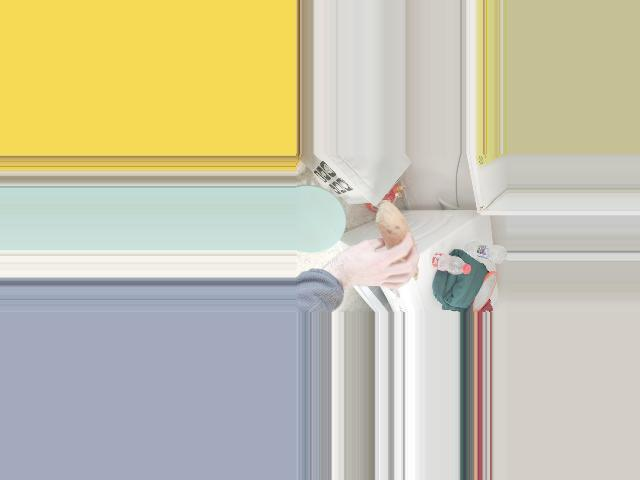sweet_potato: (382, 207, 417, 283)
